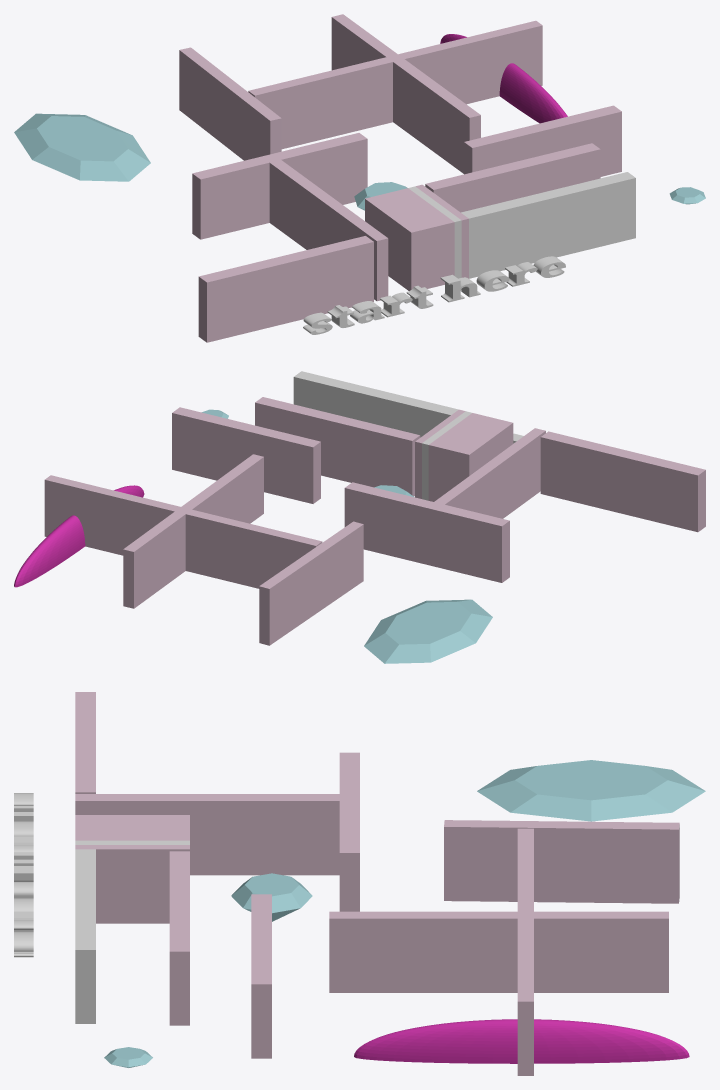
File: world.glb
3 renders of one model, top to bottom at view 1: azimuth 30°, elevation 25°; view 2: azimuth 150°, elevation 25°; view 3: azimuth 270°, elevation 25°, orthographic. The views are drawn at different scales.
Visible parts, largest first — view 1: Mesh_Mesh_head_geo.001_lambert2SG.001; view 2: Mesh_Mesh_head_geo.001_lambert2SG.001; view 3: Mesh_Mesh_head_geo.001_lambert2SG.001.
Boxes of the visible parts, <box> form: Mesh_Mesh_head_geo.001_lambert2SG.001: <box>14,14,705,342</box>; Mesh_Mesh_head_geo.001_lambert2SG.001: <box>14,371,705,663</box>; Mesh_Mesh_head_geo.001_lambert2SG.001: <box>14,692,705,1075</box>.
Bounding box in the file's own units: 180 × 20 × 169.
